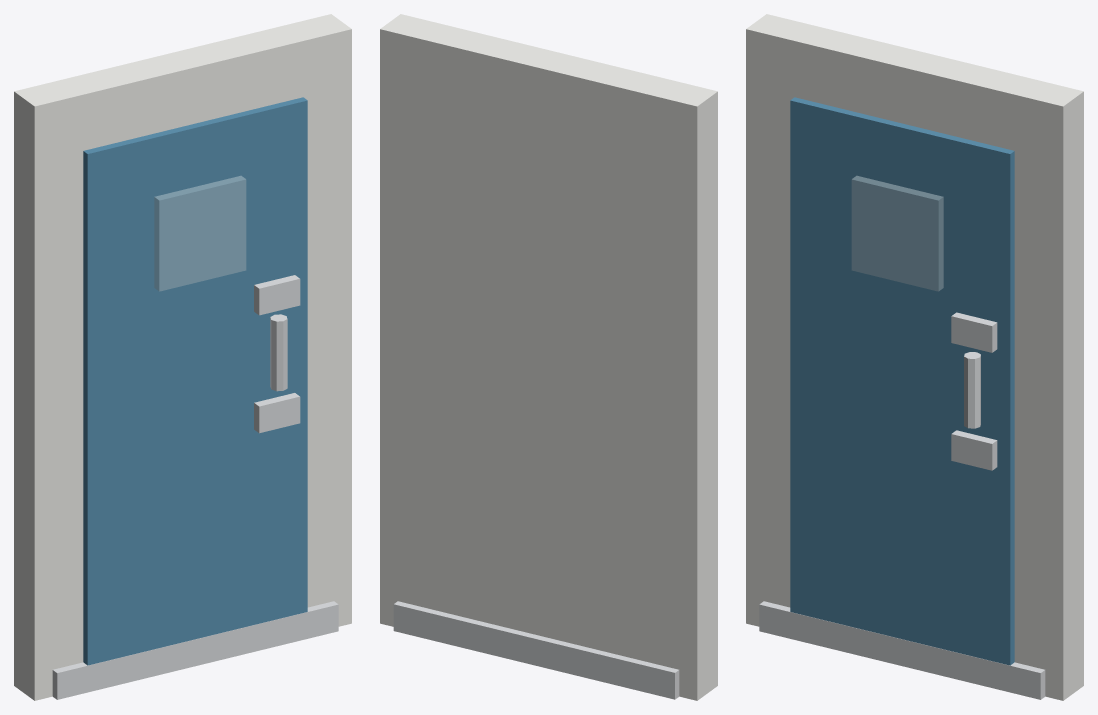
Rendered from fish-market-and-trawler-quay-fish-market-and-trawler-q-76b9d87b__37264.glb.
3 views of the same model, side by side, from view 1: azimuth 30°, elevation 25°; view 2: azimuth 150°, elevation 25°; view 3: azimuth 330°, elevation 25° (orthographic).
Parts seen in each view (by area): view 1: cabin-door/paint, fish-market-and-trawler-quay-crew-cabin-door, cabin-door/glass, cabin-door/steel (×3); view 2: fish-market-and-trawler-quay-crew-cabin-door; view 3: cabin-door/paint, fish-market-and-trawler-quay-crew-cabin-door, cabin-door/glass, cabin-door/steel (×3).
Boxes of the visible parts, <box> form: cabin-door/paint: <box>83,97,307,665</box>; fish-market-and-trawler-quay-crew-cabin-door: <box>14,14,351,700</box>; cabin-door/glass: <box>154,176,246,291</box>; cabin-door/steel (×3): <box>254,275,300,433</box>; fish-market-and-trawler-quay-crew-cabin-door: <box>380,14,717,700</box>; cabin-door/paint: <box>790,97,1014,665</box>; fish-market-and-trawler-quay-crew-cabin-door: <box>746,14,1083,700</box>; cabin-door/glass: <box>851,176,943,291</box>; cabin-door/steel (×3): <box>951,312,997,470</box>.
Size of the model in its own units: 1.24 by 2.22 by 0.2588.
